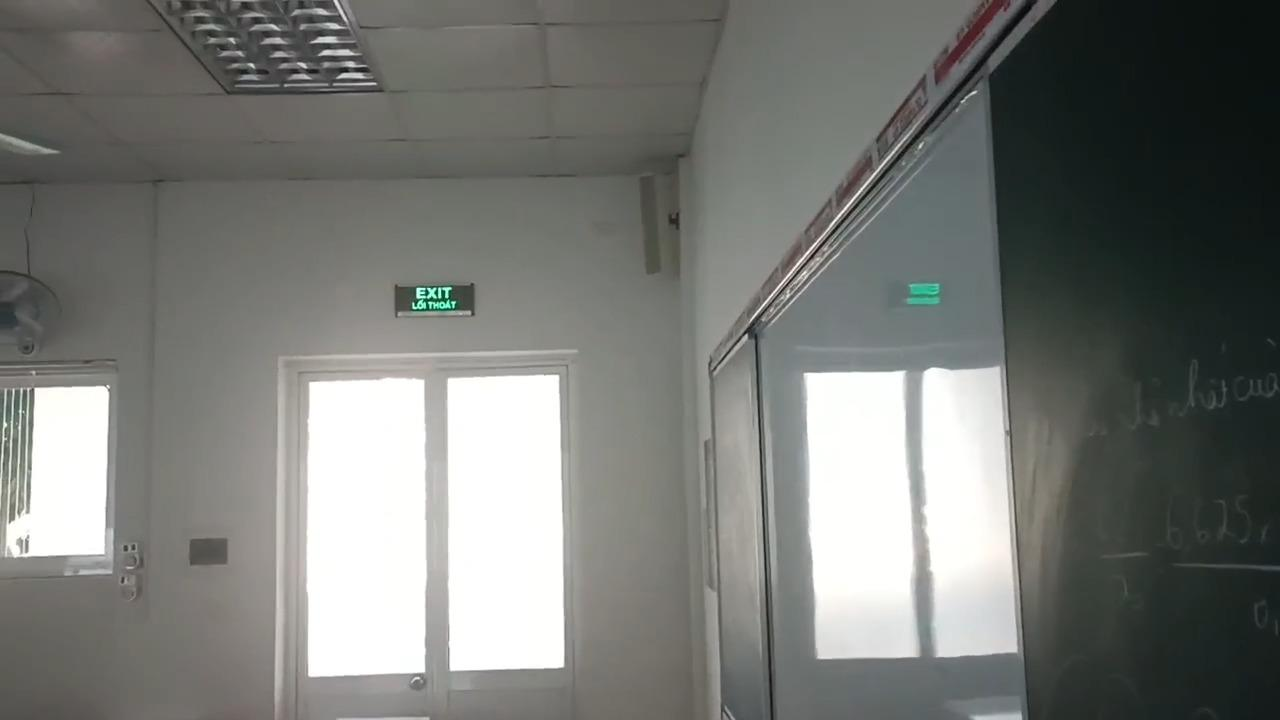board: (697, 4, 1271, 718)
fan: (0, 265, 78, 365), (0, 117, 65, 171)
